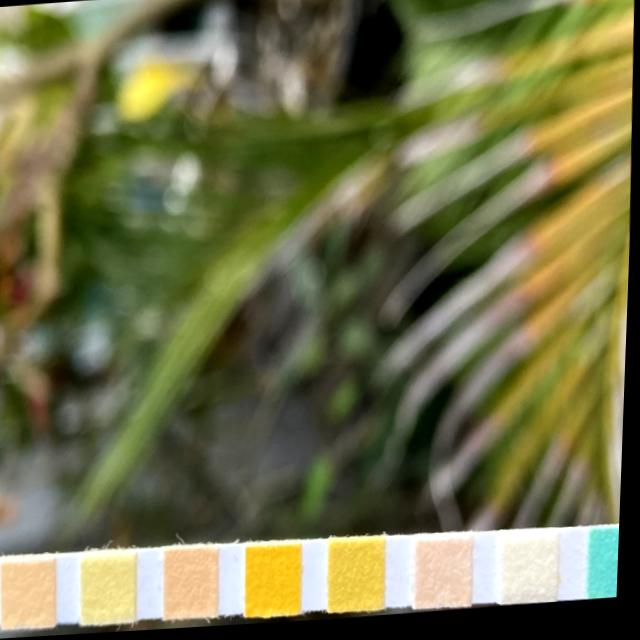Bilirubin: (509, 537, 563, 608)
Blood: (251, 547, 305, 618)
Glucose: (593, 536, 624, 607)
Ketone: (422, 541, 476, 612)
Protein: (85, 555, 139, 626)
SpGravity: (333, 543, 387, 615)
Urobilinogen: (6, 555, 60, 627)
pH: (167, 551, 221, 622)
